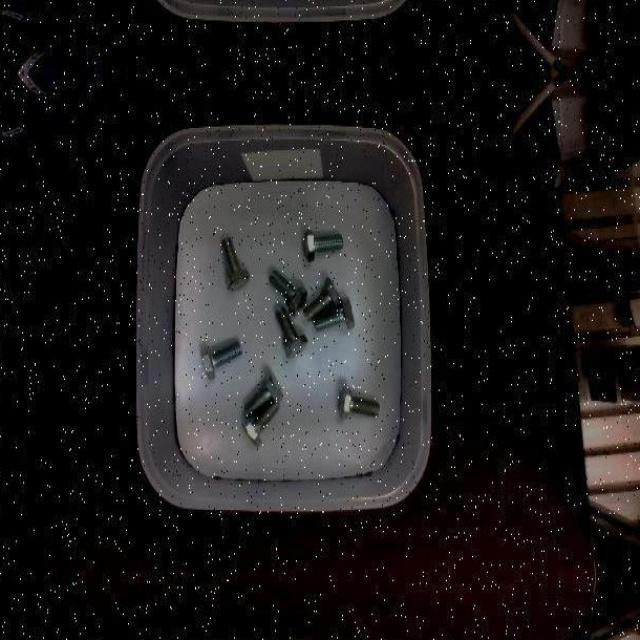screw: (268, 271, 308, 317), (244, 372, 284, 418), (241, 402, 280, 448), (303, 278, 342, 323), (275, 306, 308, 358), (202, 341, 244, 380), (221, 237, 251, 290), (339, 383, 381, 418), (314, 296, 354, 332), (304, 230, 344, 262)
